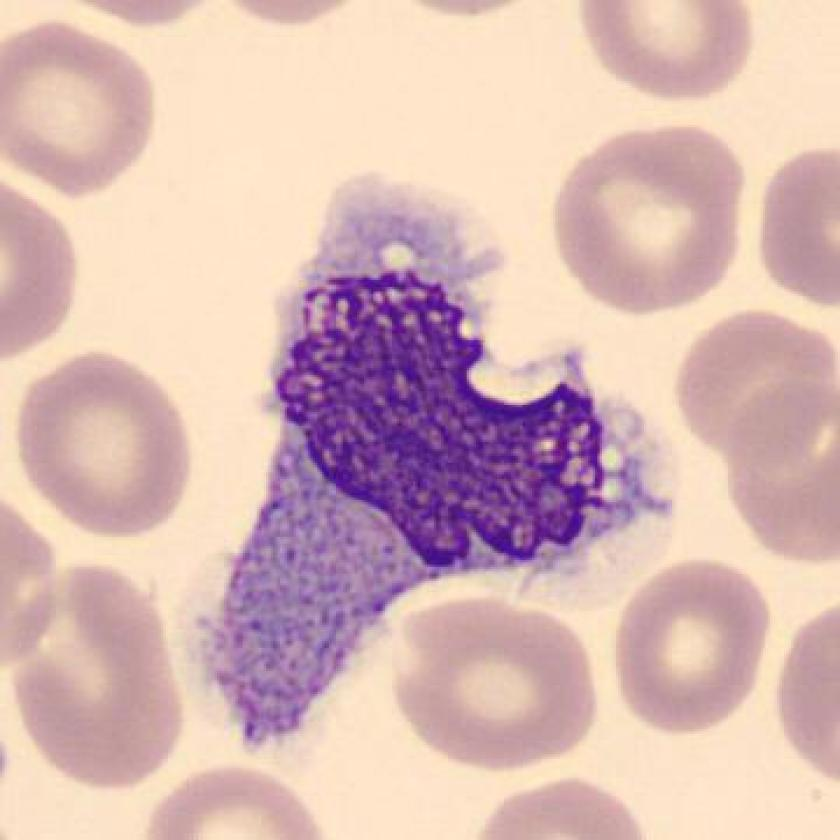monocyte: (185, 156, 687, 758)
